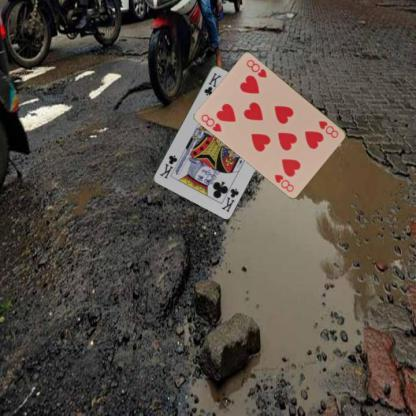8h: (198, 112, 223, 134), (316, 118, 340, 139)
Kc: (219, 186, 240, 214), (201, 70, 222, 96)
